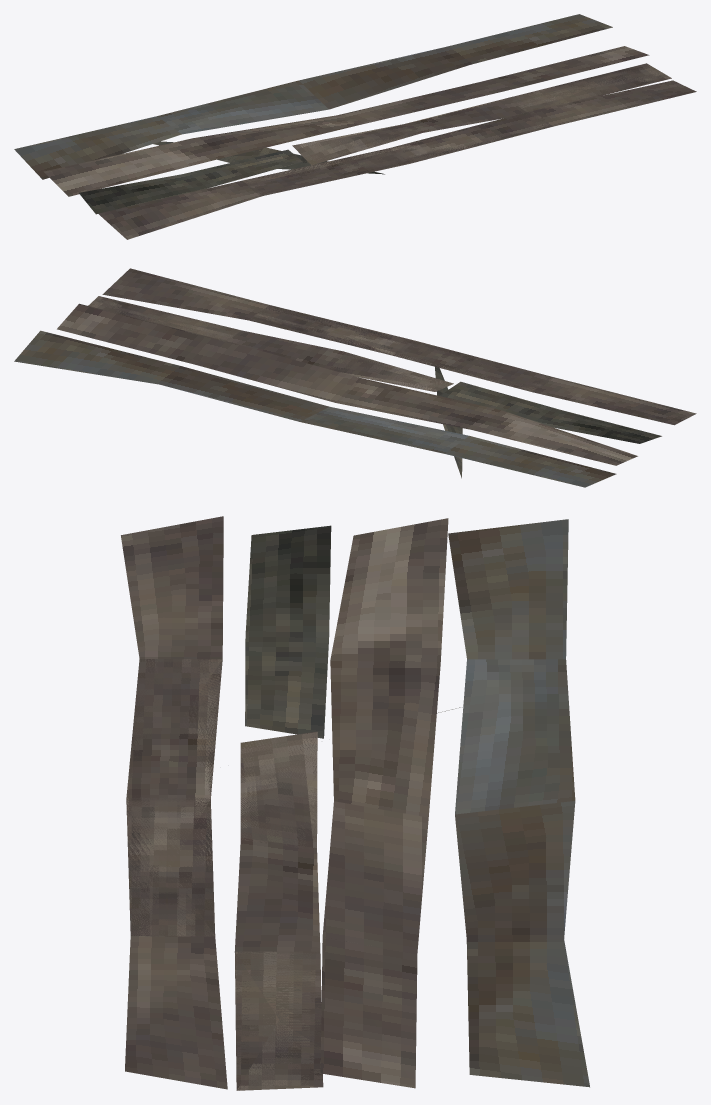
File: nastil.FBX
The picture shows the model from 3 angles, top to bottom: view 1: azimuth 30°, elevation 25°; view 2: azimuth 150°, elevation 25°; view 3: azimuth 270°, elevation 25°; orthographic projection. The views are drawn at different scales.
Visible parts, largest first — view 1: nastil; view 2: nastil; view 3: nastil.
Boxes of the visible parts, x1,y1,x2,y2 form: nastil: (14, 14, 696, 239); nastil: (14, 268, 696, 487); nastil: (121, 516, 589, 1090).
Bounding box in the file's own units: 147 × 5.24 × 52.31.
